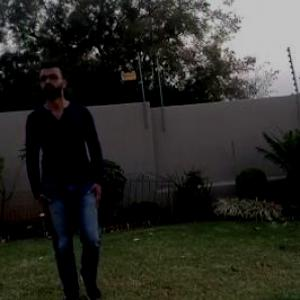follow: (27, 57, 117, 299)
